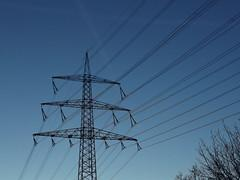power_tower: (27, 49, 140, 180)
